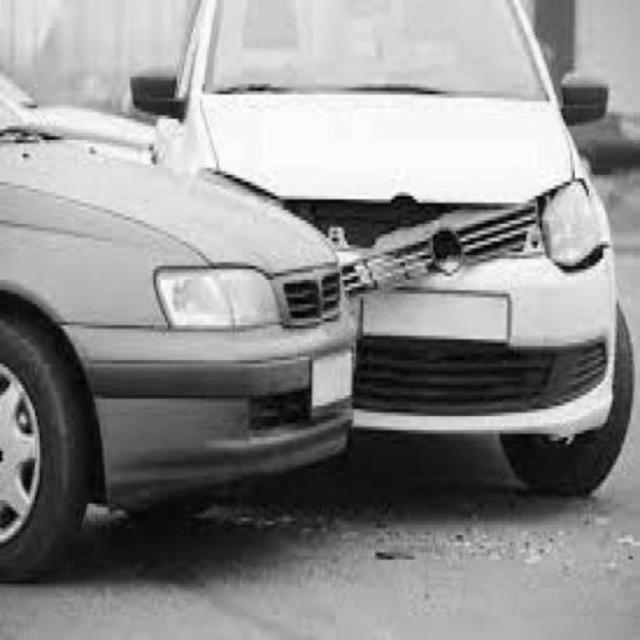accident: (17, 16, 637, 514)
